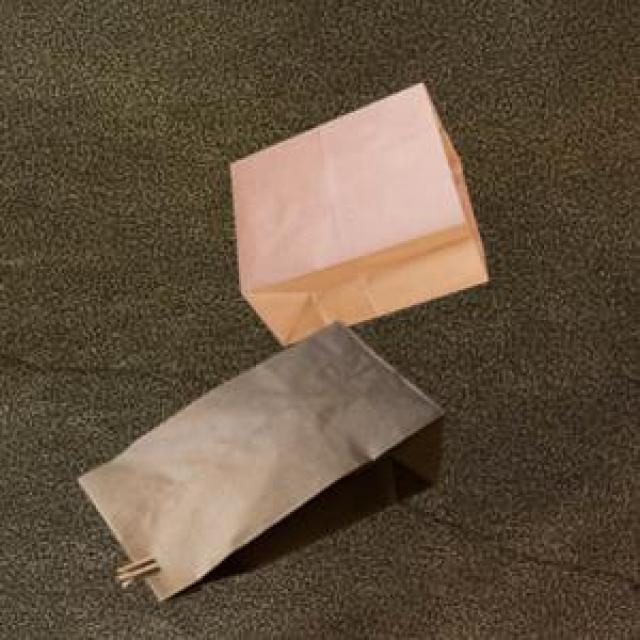Paper -Biodegradable-: (78, 319, 445, 597), (229, 78, 490, 345)
